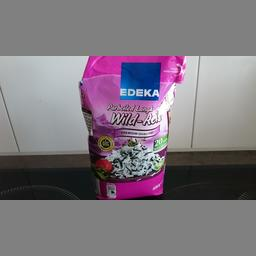rice: (76, 55, 186, 199)
